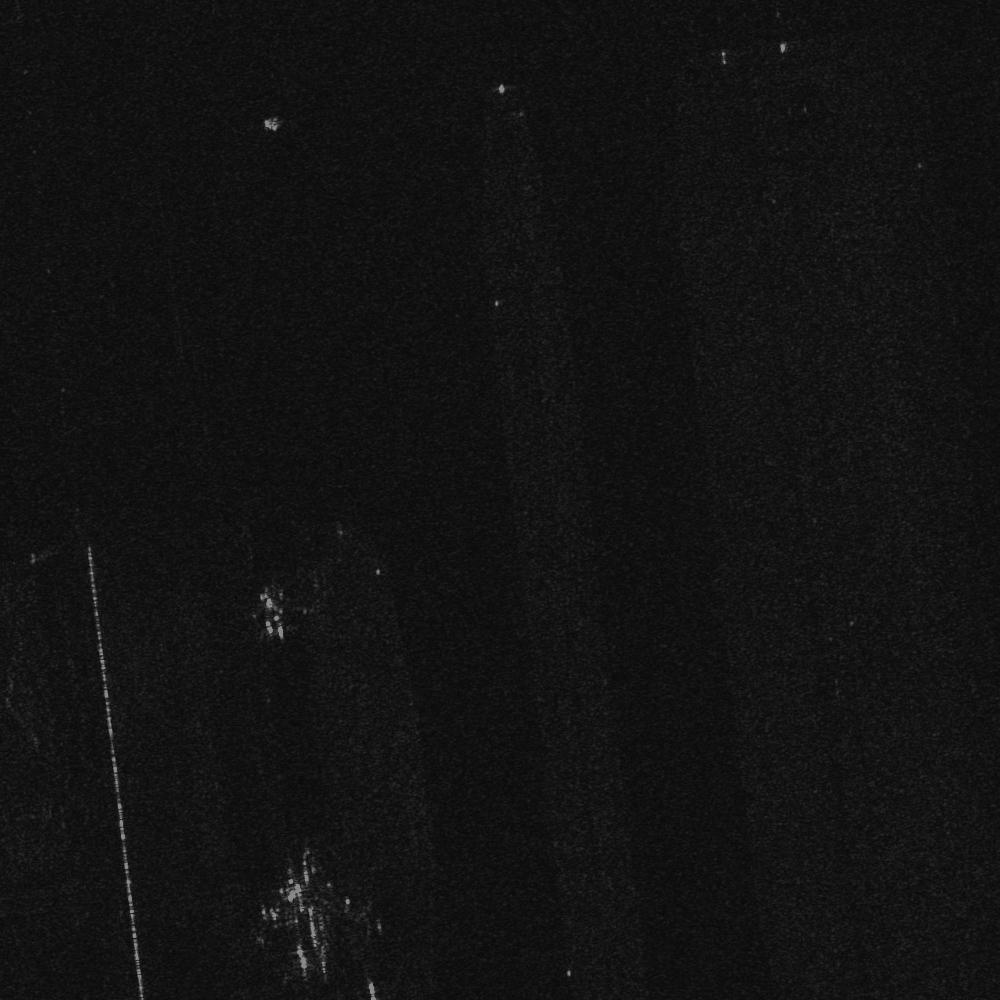A220: (229, 575, 308, 649)
other: (234, 855, 382, 987)
